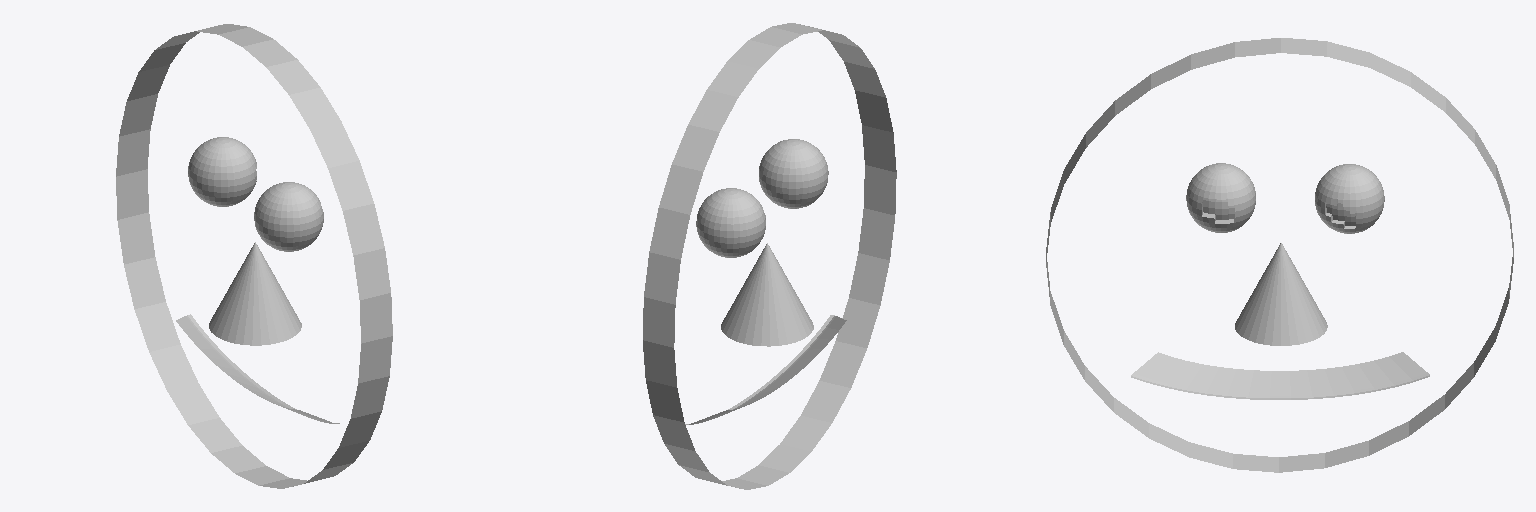
3 renders of one model, left to right at view 1: azimuth 30°, elevation 25°; view 2: azimuth 150°, elevation 25°; view 3: azimuth 270°, elevation 25°, orthographic.
Parts seen in each view (by area): view 1: Circle, Cone, Sphere, Sphere.001, SurfCurve; view 2: Circle, Cone, Sphere.001, Sphere, SurfCurve; view 3: Circle, SurfCurve, Cone, Sphere.001, Sphere.
Boxes of the visible parts, x1=… form: Circle: x1=116, y1=24, x2=392, y2=488; Cone: x1=209, y1=242, x2=301, y2=345; Sphere: x1=254, y1=182, x2=323, y2=251; Sphere.001: x1=188, y1=137, x2=256, y2=206; SurfCurve: x1=176, y1=314, x2=339, y2=423; Circle: x1=643, y1=23, x2=896, y2=489; Cone: x1=721, y1=243, x2=813, y2=346; Sphere.001: x1=696, y1=188, x2=765, y2=257; Sphere: x1=759, y1=139, x2=828, y2=208; SurfCurve: x1=685, y1=315, x2=846, y2=424; Circle: x1=1046, y1=38, x2=1513, y2=472; SurfCurve: x1=1131, y1=352, x2=1429, y2=399; Cone: x1=1235, y1=243, x2=1327, y2=345; Sphere.001: x1=1315, y1=164, x2=1384, y2=233; Sphere: x1=1186, y1=163, x2=1255, y2=232.
Bounding box in the file's own units: 0.398 × 2 × 2.